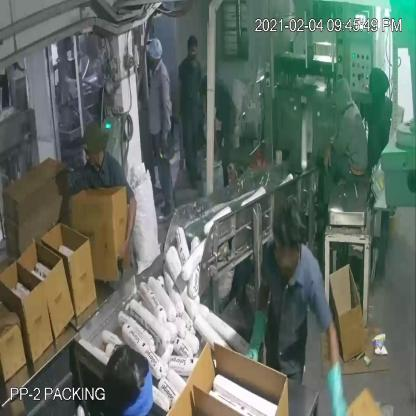glove: (318, 322, 355, 416), (233, 280, 270, 364)
no_glove: (113, 184, 142, 270), (160, 59, 176, 161)
